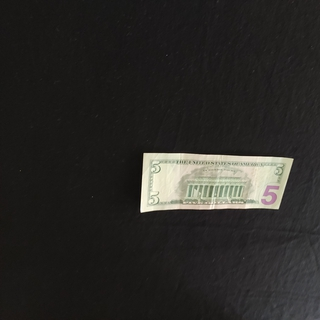5USDBack: (139, 152, 294, 213)
